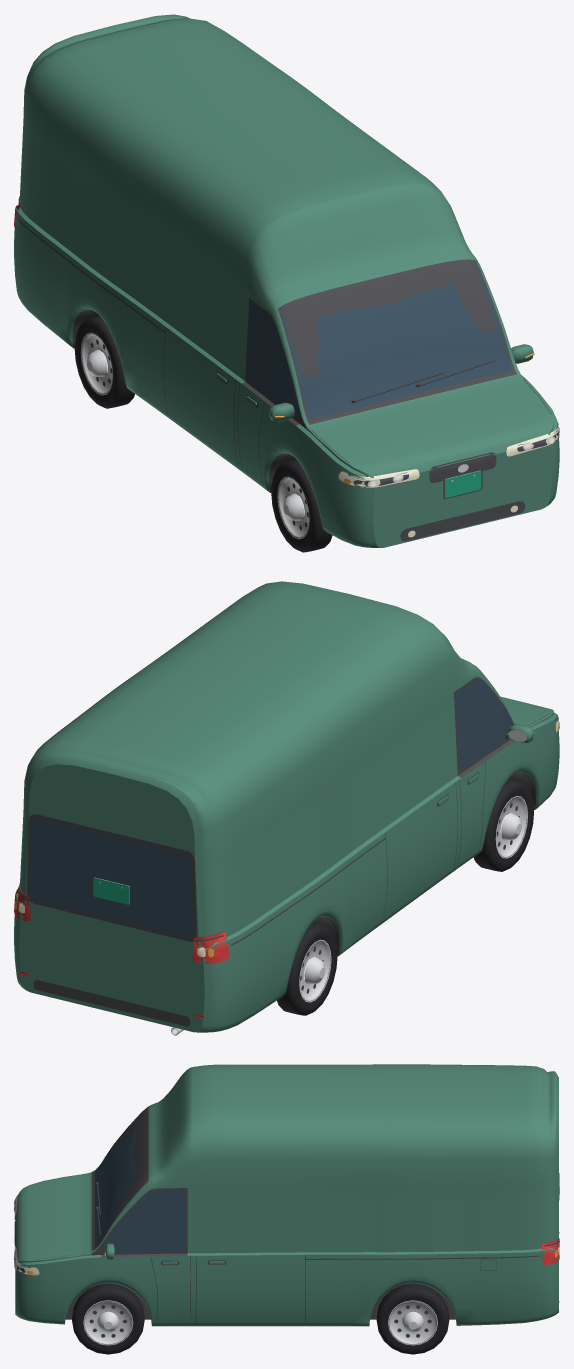
Rendered from 1_close.fbx.
The picture shows the model from 3 angles, top to bottom: view 1: azimuth 30°, elevation 25°; view 2: azimuth 150°, elevation 25°; view 3: azimuth 270°, elevation 25°; orthographic projection. The views are drawn at different scales.
Visible parts, largest first — view 1: 13_1_close; view 2: 13_1_close; view 3: 13_1_close.
Boxes of the visible parts, box(x1,y1,x2,y2) form: 13_1_close: box(14, 14, 559, 552); 13_1_close: box(14, 581, 559, 1035); 13_1_close: box(14, 1064, 559, 1354).
Size of the model in its own units: 2.39 by 2.55 by 5.57.
